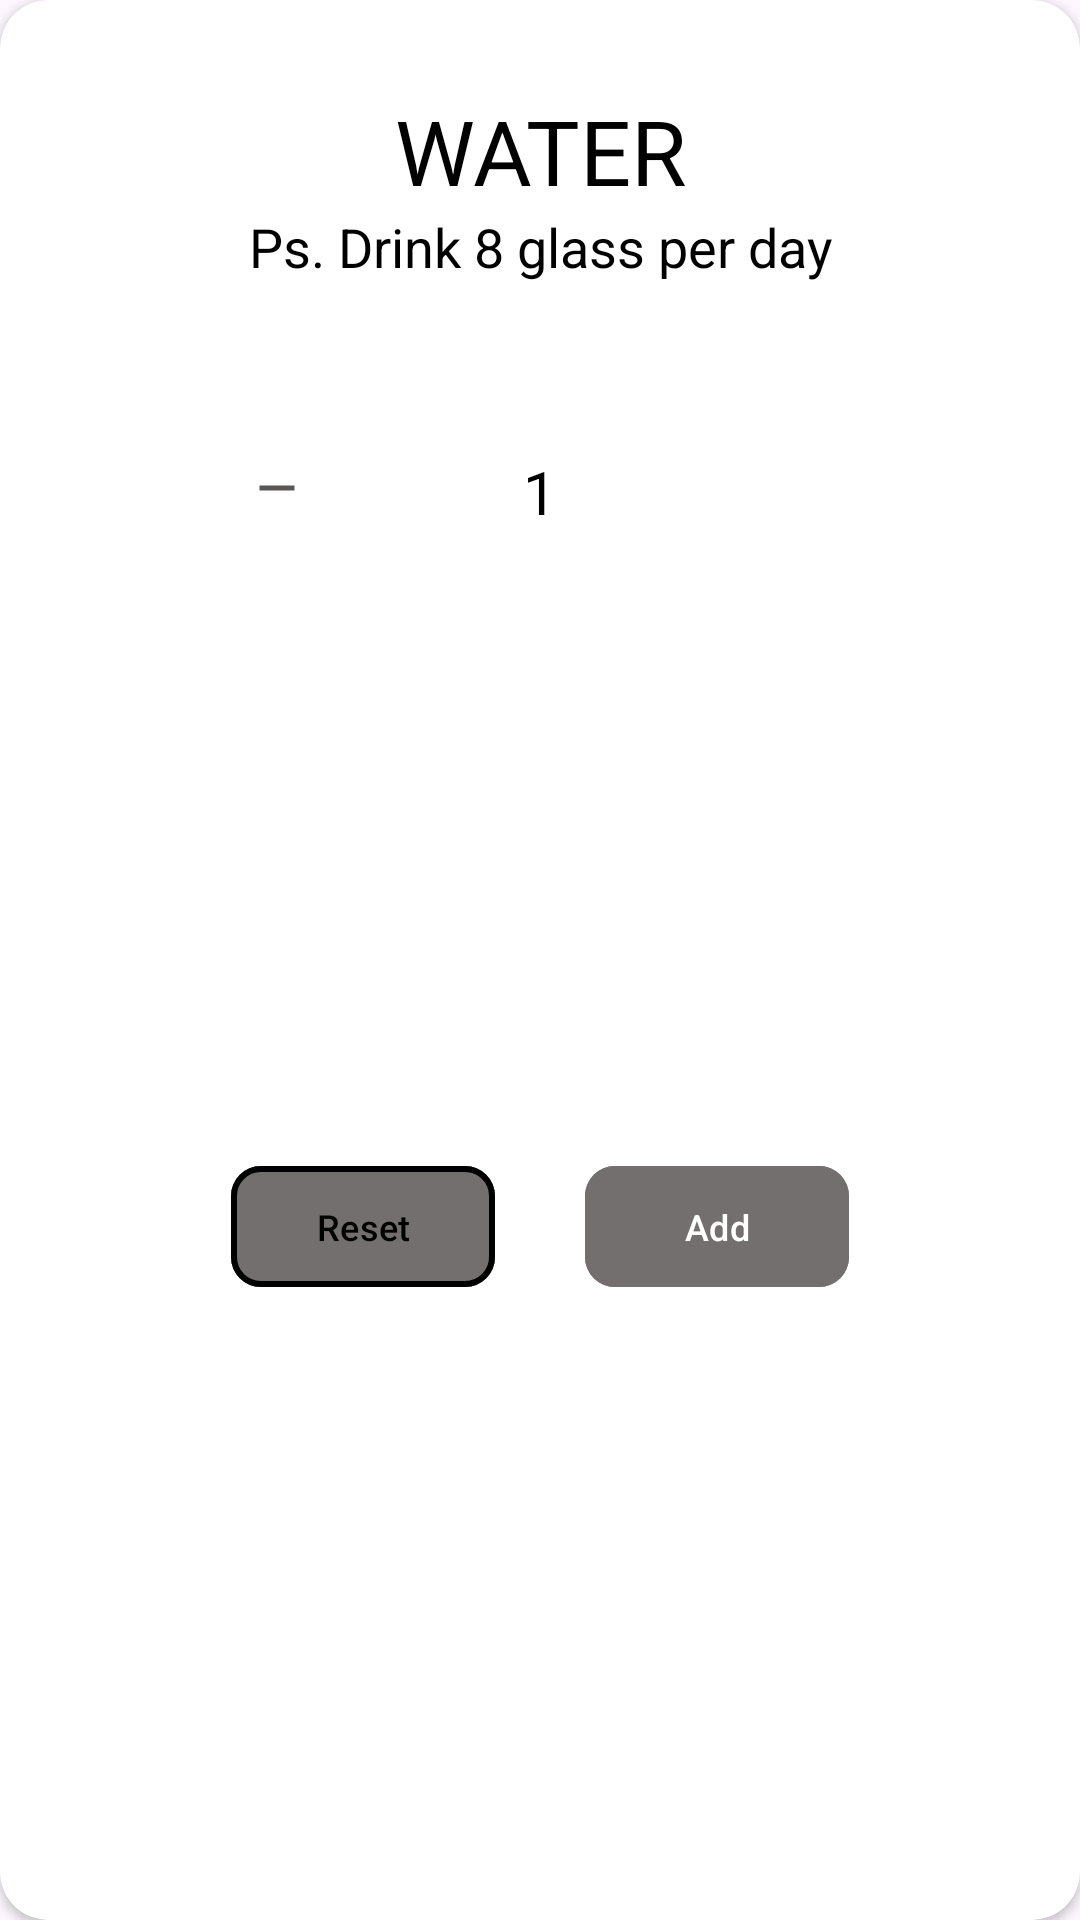

Where to tap for icons on this 1080 x 1920 app screen, as [x,y]:
base line remove: [277,488]
